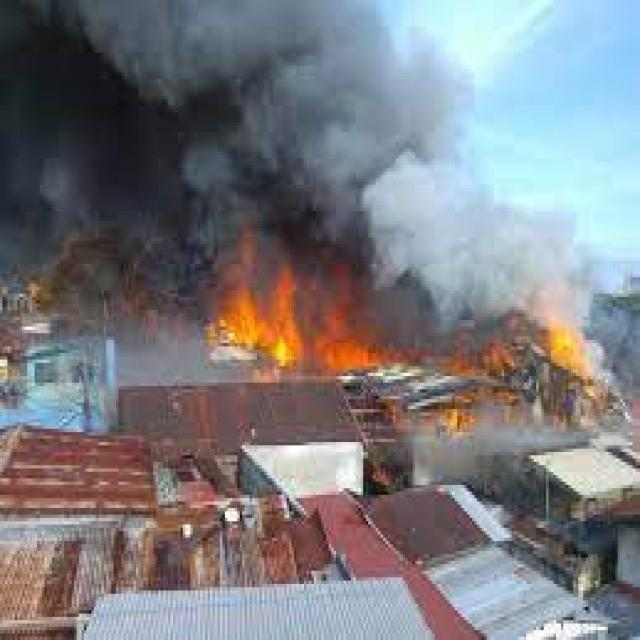Fire: (218, 266, 476, 382)
Smoke: (7, 0, 570, 287)
